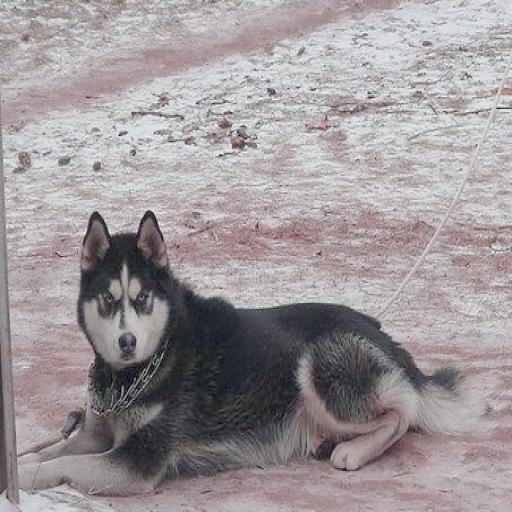dog_face: (74, 210, 168, 355)
